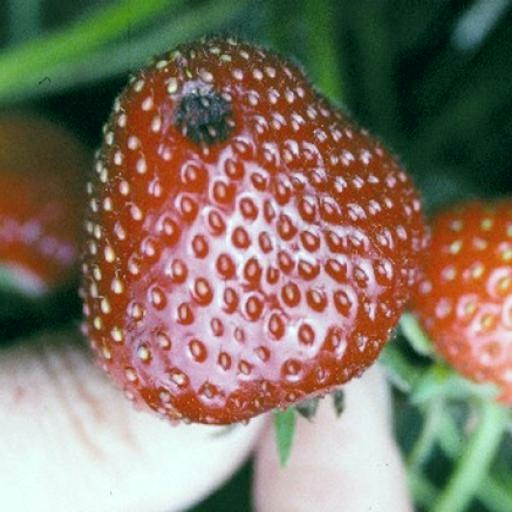Anthracnose Fruit Rot: (272, 362, 345, 466)
